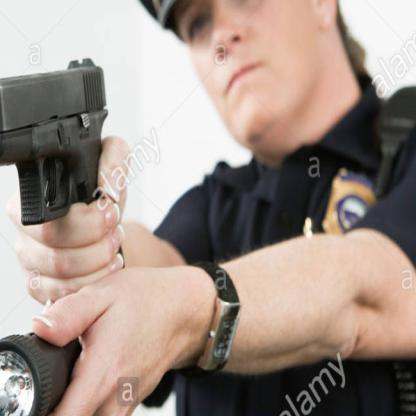gun: (0, 57, 113, 230)
